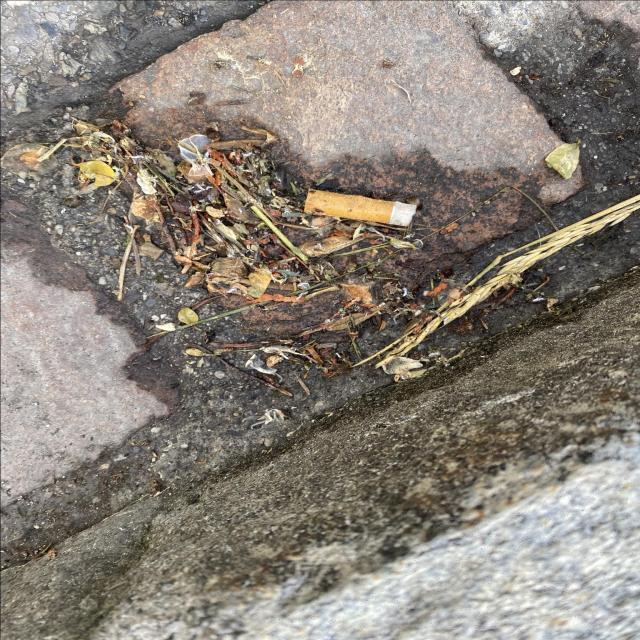other waste: (302, 187, 417, 228)
